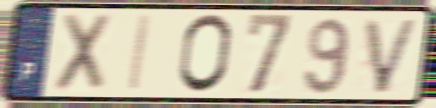7: (245, 11, 294, 97)
9: (301, 14, 353, 96)
I: (125, 13, 155, 94)
O: (175, 12, 235, 97)
V: (361, 16, 423, 96)
X: (49, 11, 116, 96)
